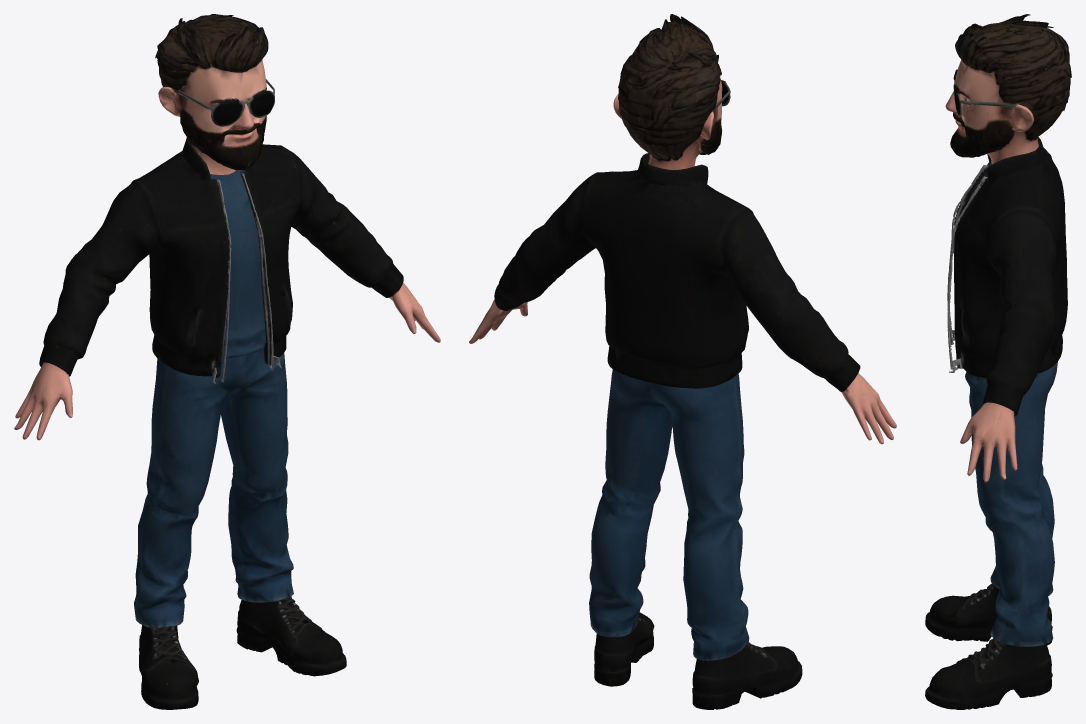
File: ruddy.glb
3 views of the same model, side by side, from view 1: azimuth 30°, elevation 25°; view 2: azimuth 150°, elevation 25°; view 3: azimuth 270°, elevation 25° (orthographic).
Parts seen in each view (by area): view 1: geometry_0; view 2: geometry_0; view 3: geometry_0.
Boxes of the visible parts, x1,y1,x2,y2 form: geometry_0: (14,14,440,709); geometry_0: (469,14,896,709); geometry_0: (925,14,1071,709).
Size of the model in its own units: 0.6684 by 1 by 0.2062.
1 material, 1 textured.
